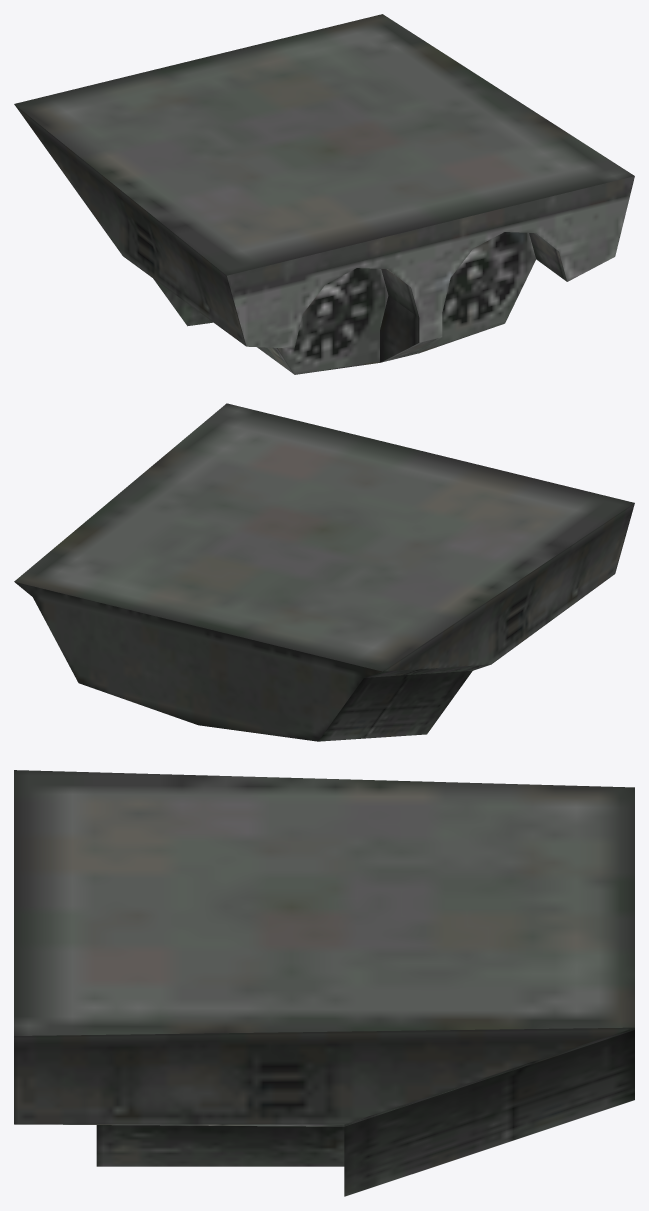
The model's file is black_sun_fighter_heavy_missile_pod_s02_l1.fbx.
3 views of the same model, one above another, from view 1: azimuth 30°, elevation 25°; view 2: azimuth 150°, elevation 25°; view 3: azimuth 270°, elevation 25° (orthographic). The views are drawn at different scales.
Parts seen in each view (by area): view 1: mesh_node; view 2: mesh_node; view 3: mesh_node.
Part boxes in pixels (x1,y1,x2,y2): mesh_node: (14, 14, 634, 374); mesh_node: (14, 403, 634, 741); mesh_node: (14, 770, 634, 1196).
Size of the model in its own units: 1.36 by 0.5538 by 1.34.
